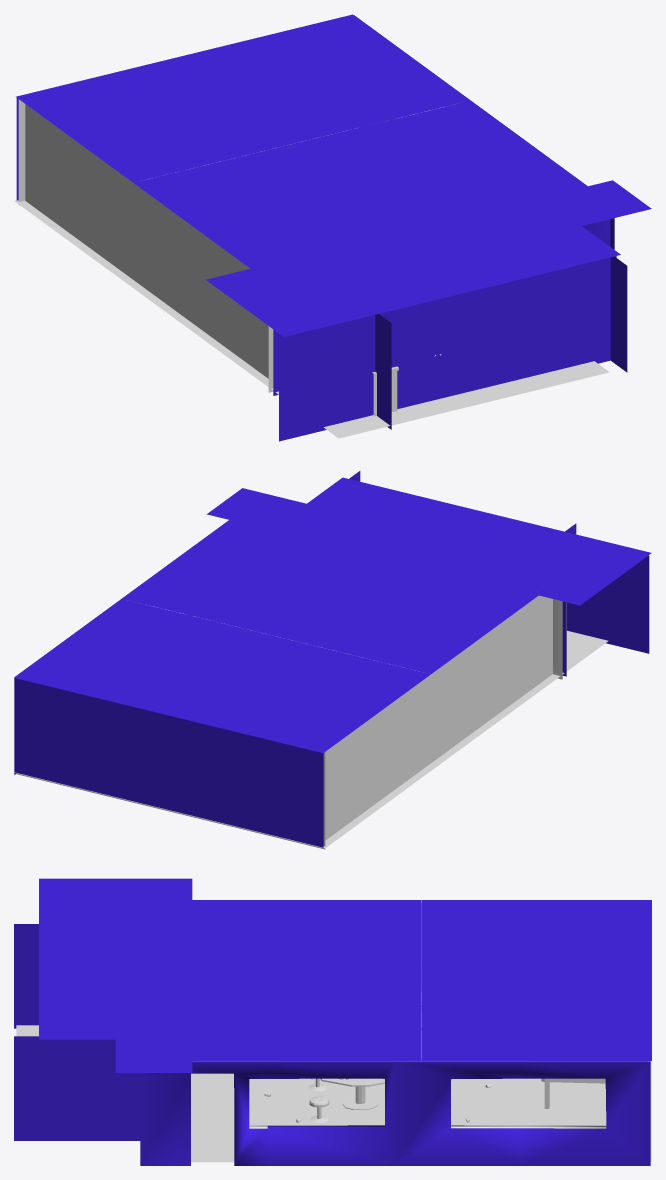
File: SM_kantine+Keuken.fbx
3 renders of one model, top to bottom at view 1: azimuth 30°, elevation 25°; view 2: azimuth 150°, elevation 25°; view 3: azimuth 270°, elevation 25°, orthographic. The views are drawn at different scales.
Visible parts, largest first — view 1: plafond_UvDone.001, MurenUV_Done.030, MurenUV_Done.031, MurenUV_Done.032, MurenUV_Done.009, GrondIUV_done.002, MurenUV_Done.008, MurenUV_Done.007, MurenUV_Done.010, MurenUV_Done.033, MurenUV_Done.026, MurenUV_Done.025 (+1 smaller); view 2: plafond_UvDone.001, MurenUV_Done.002, MurenUV_Done.003, MurenUV_Done.001, MurenUV_Done.007, MurenUV_Done.008, MurenUV_Done.009, MurenUV_Done.032, MurenUV_Done.010, GrondIUV_done.002, MurenUV_Done.025; view 3: plafond_UvDone.001, MurenUV_Done.022, GrondIUV_done.002, MurenUV_Done.033, MurenUV_Done.026, tafel rond.001, Cube.024.
Boxes of the visible parts, x1,y1,x2,y2 form: plafond_UvDone.001: (16, 14, 651, 336); MurenUV_Done.030: (391, 283, 503, 408); MurenUV_Done.031: (504, 256, 616, 382); MurenUV_Done.032: (279, 311, 391, 441); MurenUV_Done.009: (25, 104, 90, 247); GrondIUV_done.002: (14, 128, 609, 438); MurenUV_Done.008: (90, 152, 154, 295); MurenUV_Done.007: (155, 199, 219, 342); MurenUV_Done.010: (220, 246, 268, 378); MurenUV_Done.033: (610, 256, 627, 372); MurenUV_Done.026: (375, 314, 391, 429); MurenUV_Done.025: (268, 219, 610, 395); plafond_UvDone.001: (14, 477, 651, 752); MurenUV_Done.002: (117, 703, 220, 822); MurenUV_Done.003: (220, 728, 323, 847); MurenUV_Done.001: (14, 678, 117, 797); MurenUV_Done.007: (439, 625, 498, 757); MurenUV_Done.008: (379, 669, 438, 800); MurenUV_Done.009: (325, 712, 379, 840); MurenUV_Done.032: (567, 555, 649, 653); MurenUV_Done.010: (498, 595, 552, 713); GrondIUV_done.002: (14, 623, 608, 848); MurenUV_Done.025: (553, 599, 566, 679); plafond_UvDone.001: (39, 878, 651, 1072); MurenUV_Done.022: (140, 1058, 650, 1165); GrondIUV_done.002: (16, 1025, 651, 1162); MurenUV_Done.033: (14, 1036, 140, 1140); MurenUV_Done.026: (14, 924, 38, 1028); tafel rond.001: (320, 1078, 384, 1109); Cube.024: (541, 1078, 605, 1108).
Bounding box in the file's own units: 907 × 227 × 1255.
